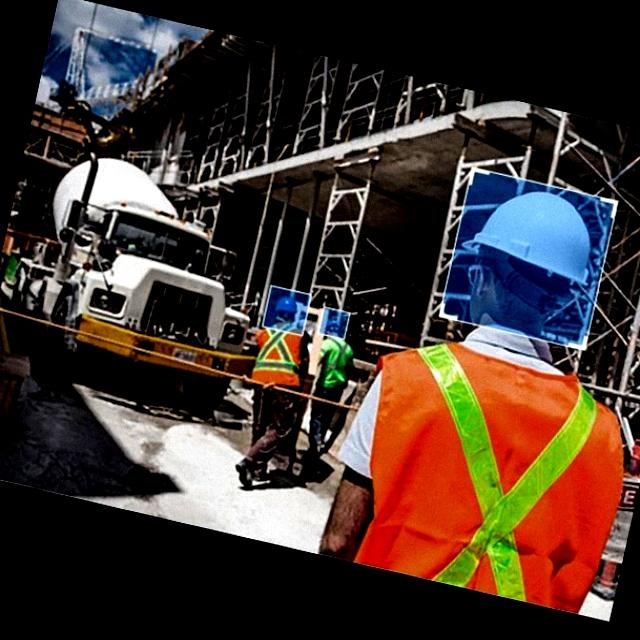helmet: (465, 188, 598, 284), (266, 292, 302, 322), (322, 311, 348, 339)
safety_vest: (372, 340, 628, 618), (256, 326, 308, 398), (322, 340, 353, 400)
